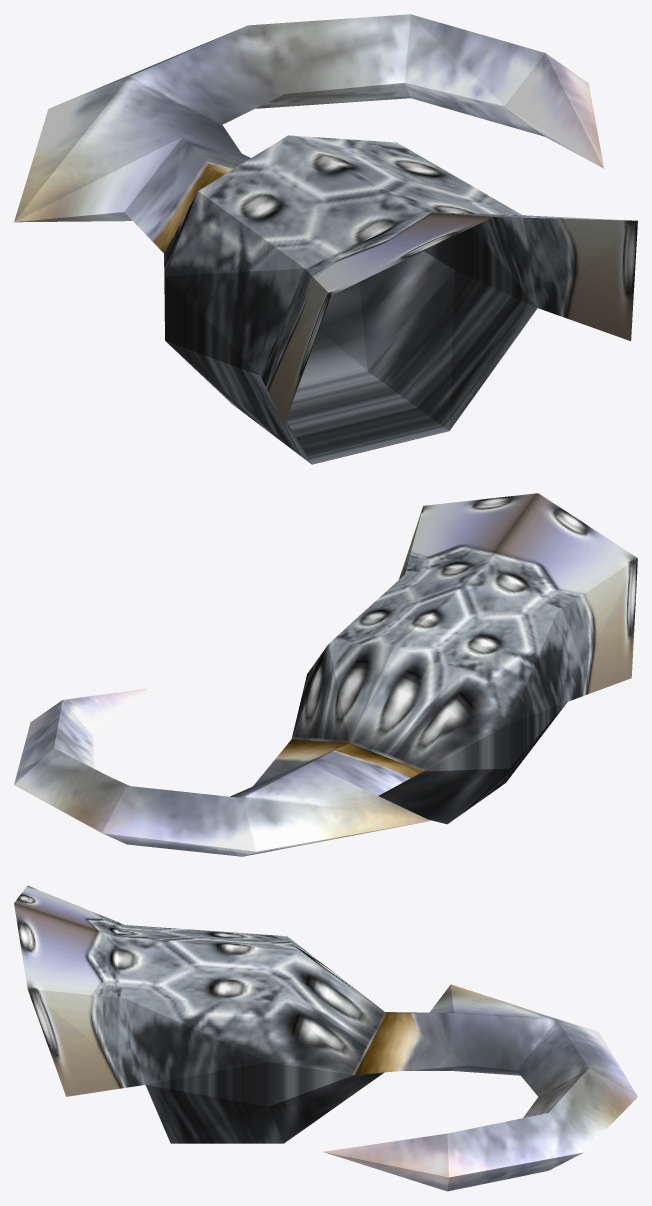
The model's file is twinblade103_1.obj.
3 renders of one model, top to bottom at view 1: azimuth 30°, elevation 25°; view 2: azimuth 150°, elevation 25°; view 3: azimuth 270°, elevation 25°, orthographic. The views are drawn at different scales.
Visible parts, largest first — view 1: MDL_cwdhkn03_1r; view 2: MDL_cwdhkn03_1r; view 3: MDL_cwdhkn03_1r.
Boxes of the visible parts, x1=… form: MDL_cwdhkn03_1r: x1=14, y1=14, x2=637, y2=464; MDL_cwdhkn03_1r: x1=14, y1=493, x2=637, y2=856; MDL_cwdhkn03_1r: x1=14, y1=885, x2=637, y2=1191.
Bounding box in the file's own units: 0.3438 × 0.1774 × 0.4625.
